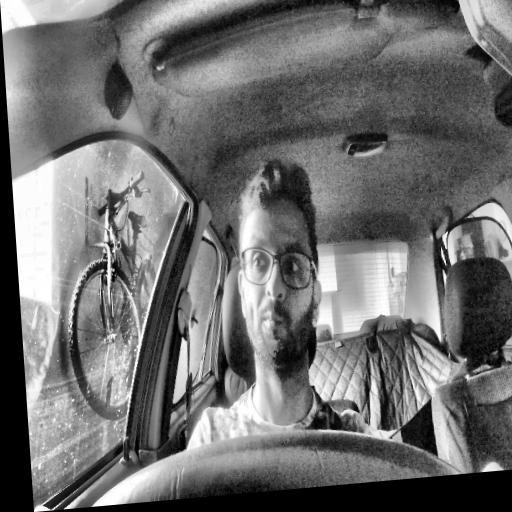awake: (228, 156, 329, 378)
